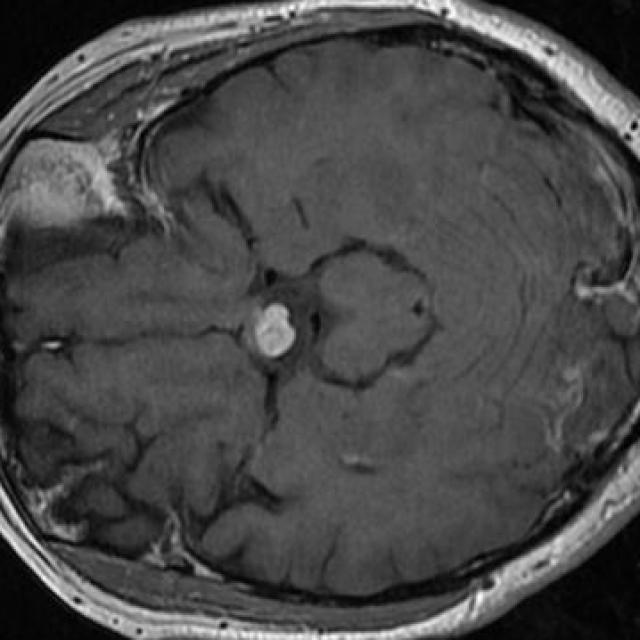pituitary: (251, 303, 296, 360)
